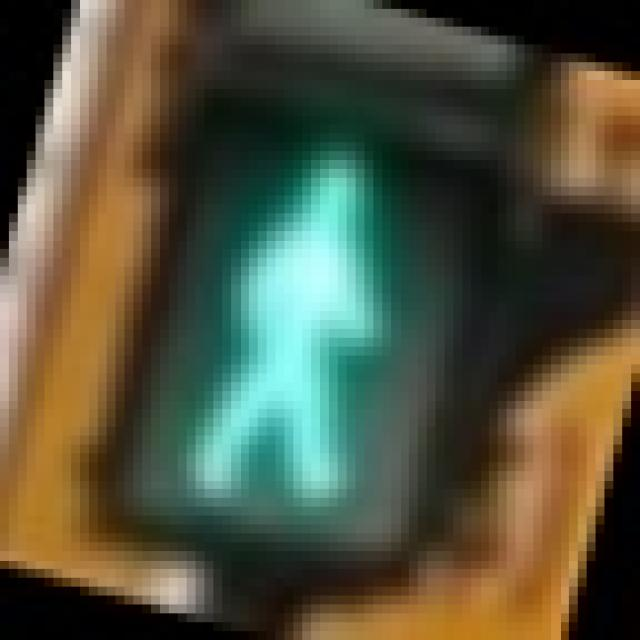green_light: (98, 53, 524, 560)
